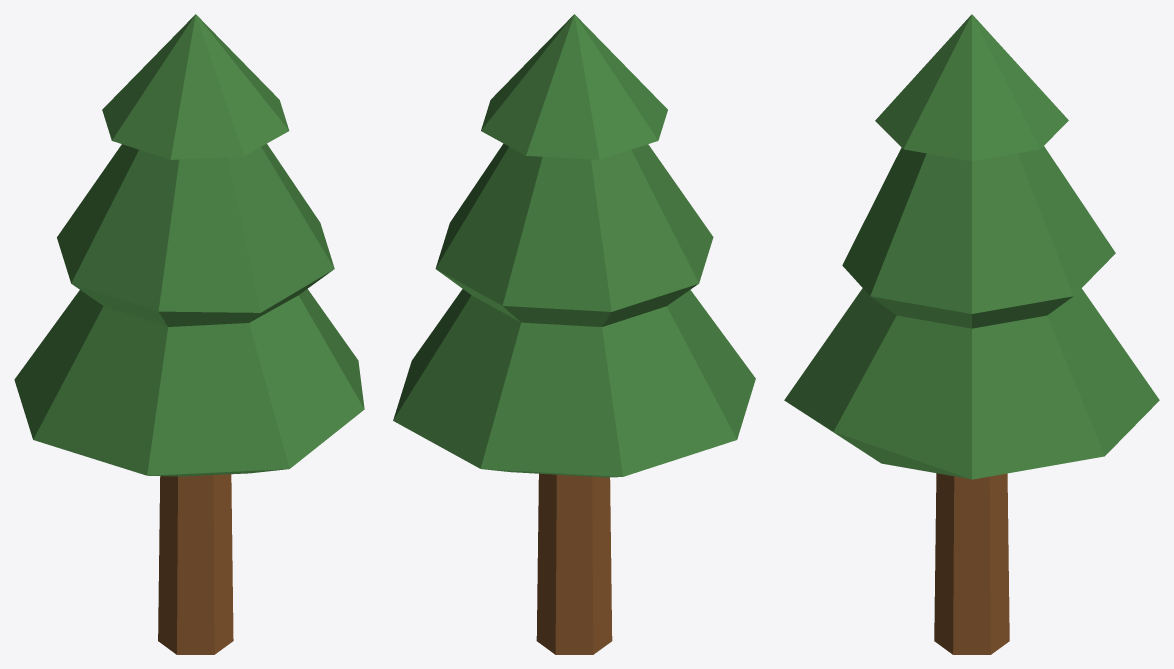
The model's file is Tree_1.fbx.
3 renders of one model, left to right at view 1: azimuth 30°, elevation 25°; view 2: azimuth 150°, elevation 25°; view 3: azimuth 270°, elevation 25°, orthographic.
Parts seen in each view (by area): view 1: Tree_1; view 2: Tree_1; view 3: Tree_1.
Part boxes in pixels (x1,y1,x2,y2): Tree_1: (14,14,364,654); Tree_1: (393,14,755,654); Tree_1: (784,14,1159,654).
Size of the model in its own units: 385 by 709 by 385.
